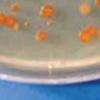orange: (78, 2, 92, 16), (79, 30, 92, 44), (4, 14, 16, 29), (41, 4, 56, 16), (44, 14, 56, 29), (36, 29, 47, 42), (86, 24, 96, 38), (9, 4, 22, 14), (22, 20, 32, 30), (91, 0, 100, 10), (12, 22, 20, 33), (0, 12, 6, 26), (39, 10, 47, 19), (93, 29, 100, 39)
